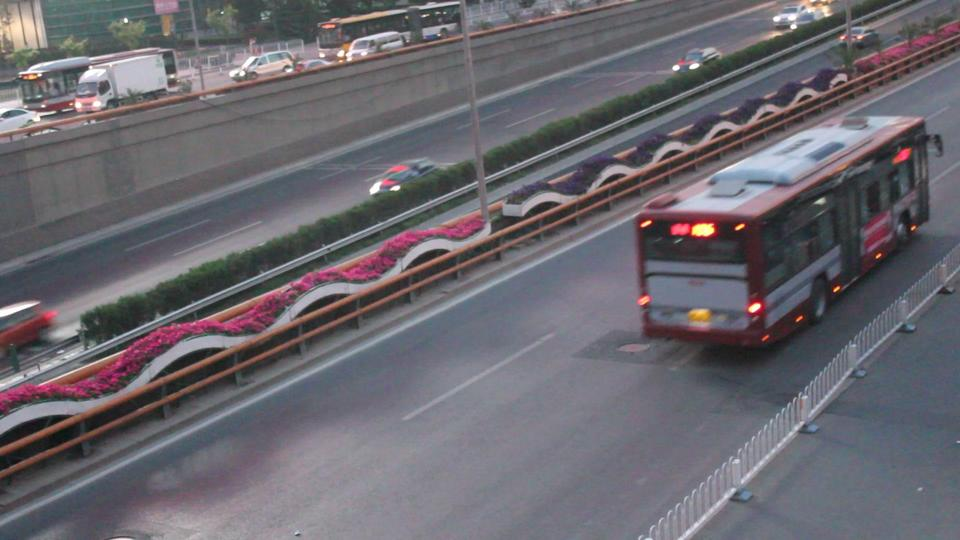bus: (634, 111, 937, 349), (318, 0, 466, 53), (16, 53, 96, 113)
car: (0, 299, 58, 351), (370, 158, 439, 195), (228, 51, 298, 82), (345, 32, 411, 62), (672, 47, 723, 75), (760, 4, 809, 28), (0, 108, 40, 131), (295, 59, 333, 73)
truck: (73, 47, 180, 113)
